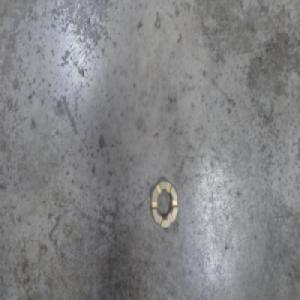Nut: (150, 175, 178, 231)
